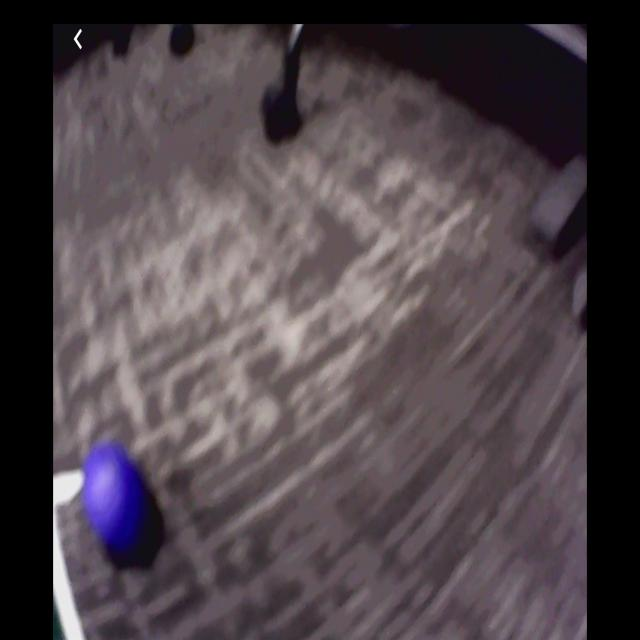ball: (85, 443, 145, 556)
